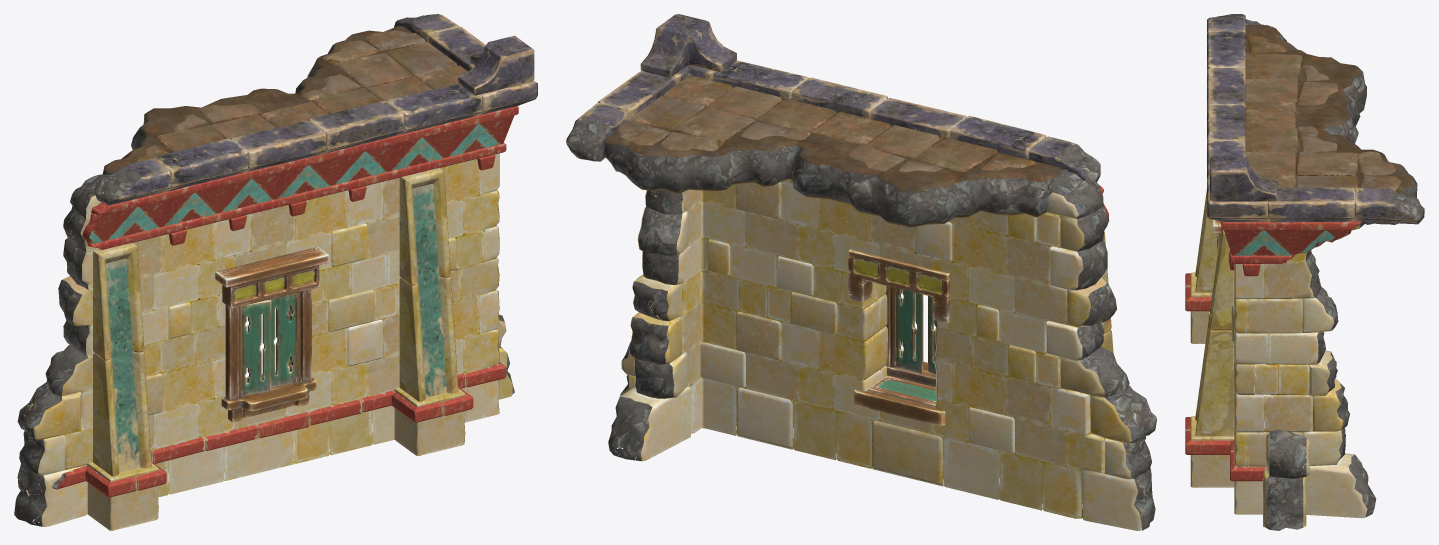
3 views of the same model, side by side, from view 1: azimuth 30°, elevation 25°; view 2: azimuth 150°, elevation 25°; view 3: azimuth 270°, elevation 25° (orthographic). The views are drawn at different scales.
Visible parts, largest first — view 1: SM_Menaphite_Ruins_01_LOD0; view 2: SM_Menaphite_Ruins_01_LOD0; view 3: SM_Menaphite_Ruins_01_LOD0.
Part boxes in pixels (box(x1,y1,x2,y2)): SM_Menaphite_Ruins_01_LOD0: box(14, 14, 537, 530); SM_Menaphite_Ruins_01_LOD0: box(566, 14, 1156, 530); SM_Menaphite_Ruins_01_LOD0: box(1185, 14, 1424, 530).
Bounding box in the file's own units: 12.96 × 9.04 × 5.54.
10 materials, 10 textured.
